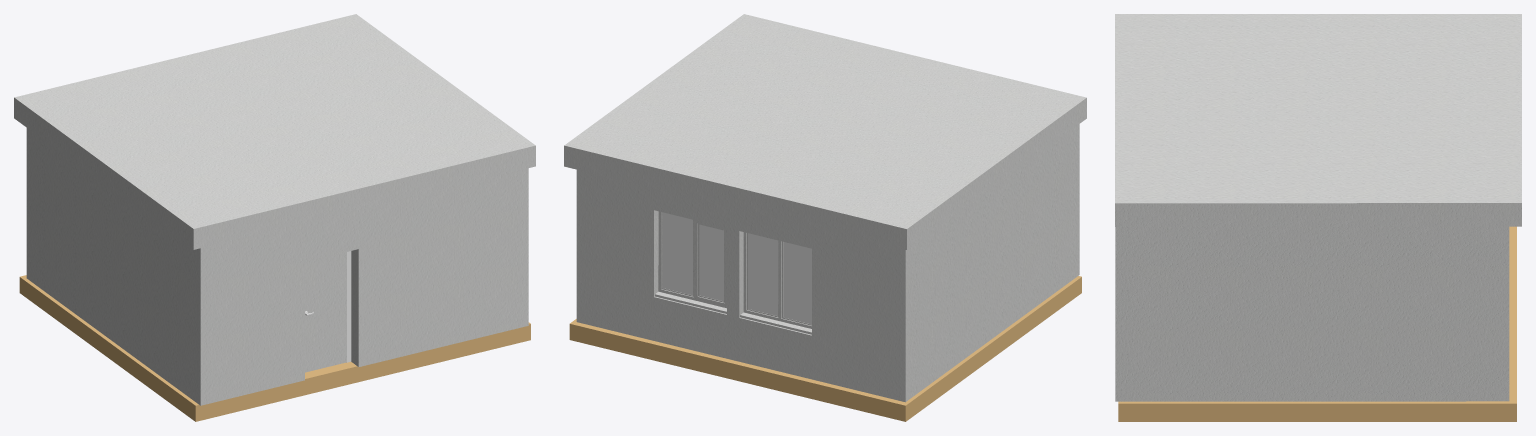
The model's file is FloorPlan217_physics.fbx.
The picture shows the model from 3 angles, left to right: view 1: azimuth 30°, elevation 25°; view 2: azimuth 150°, elevation 25°; view 3: azimuth 270°, elevation 25°; orthographic projection. The views are drawn at different scales.
Visible parts, largest first — view 1: FP217:Room.013, FP217:Ceiling.003, FP217:Floor, FP217:Door.010, FP217:DoorFrame.007; view 2: FP217:Ceiling.003, FP217:Room.013, FP217:Floor, FP217:polySurface3, FP216:polySurface8, FP217:polySurface12, FP217:polySurface7; view 3: FP217:Ceiling.003, FP217:Room.013, FP217:Floor.
Boxes of the visible parts, box(x1,y1,x2,y2) form: FP217:Room.013: box(26, 128, 528, 405); FP217:Ceiling.003: box(14, 14, 535, 249); FP217:Floor: box(19, 275, 530, 421); FP217:Door.010: box(305, 252, 346, 372); FP217:DoorFrame.007: box(347, 251, 351, 362); FP217:Ceiling.003: box(564, 14, 1086, 249); FP217:Room.013: box(576, 124, 1079, 402); FP217:Floor: box(569, 276, 1081, 421); FP217:polySurface3: box(748, 233, 811, 324); FP216:polySurface8: box(663, 212, 723, 301); FP217:polySurface12: box(655, 211, 726, 313); FP217:polySurface7: box(740, 232, 811, 334); FP217:Ceiling.003: box(1115, 14, 1521, 226); FP217:Room.013: box(1115, 226, 1509, 401); FP217:Floor: box(1118, 226, 1516, 421).
Bounding box in the file's own units: 636 × 346 × 578.
